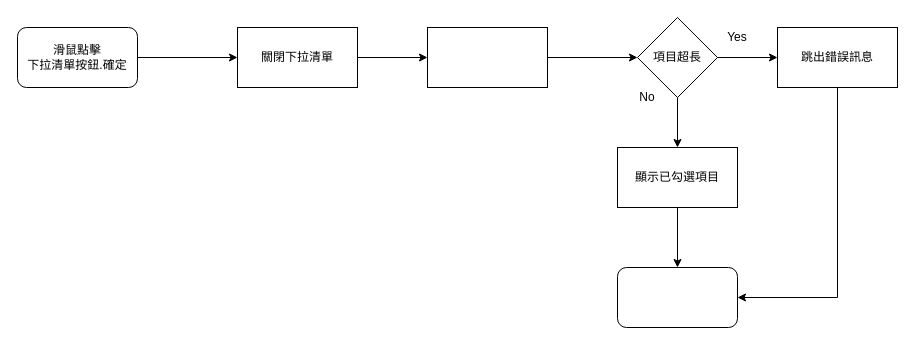
Some shapes in this 915 by 345 pixel diagram are drawn without their labels. Here are the shapes that lost their labels. From the top down, the centre of each, then its label:
At pixel 487 57: "將此次新增或取消勾選的項目與已勾選項目同步".
At pixel 677 297: "執行完畢".
